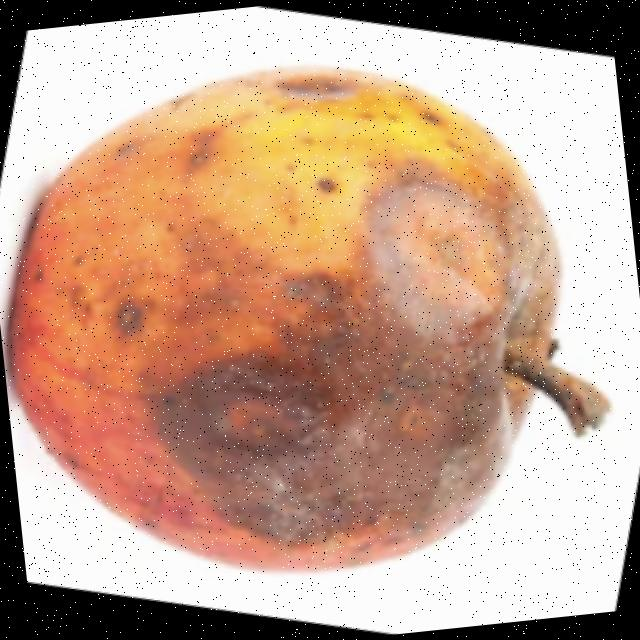Rotten: (0, 35, 603, 607)
